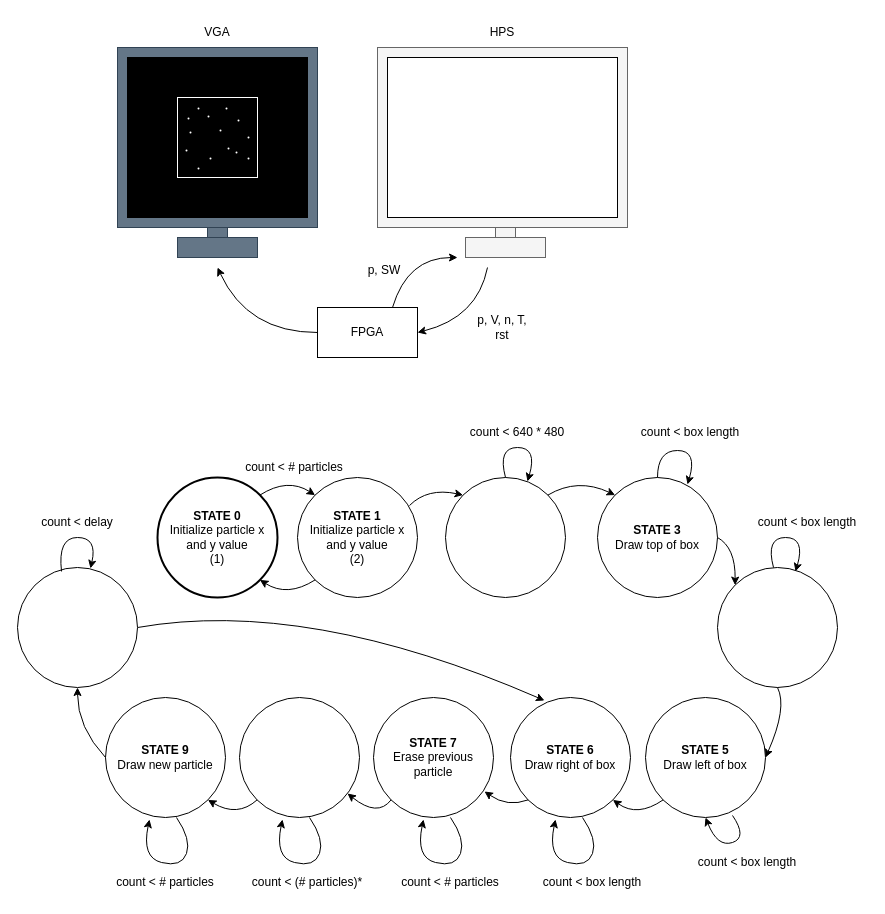
Some shapes in this 885 by 914 pixel diagram are drawn without their labels. Here are the shapes that lost their labels. From the top down, the centre of each, then its label:
At point (505, 537): "STATE 2 Clear screen by drawing every pixel black".
At point (77, 627): "STATE 10 WAIT".
At point (777, 627): "STATE 4 Draw bottom of box".
At point (299, 757): "STATE 8 Check for collisions (and update velocities)".
